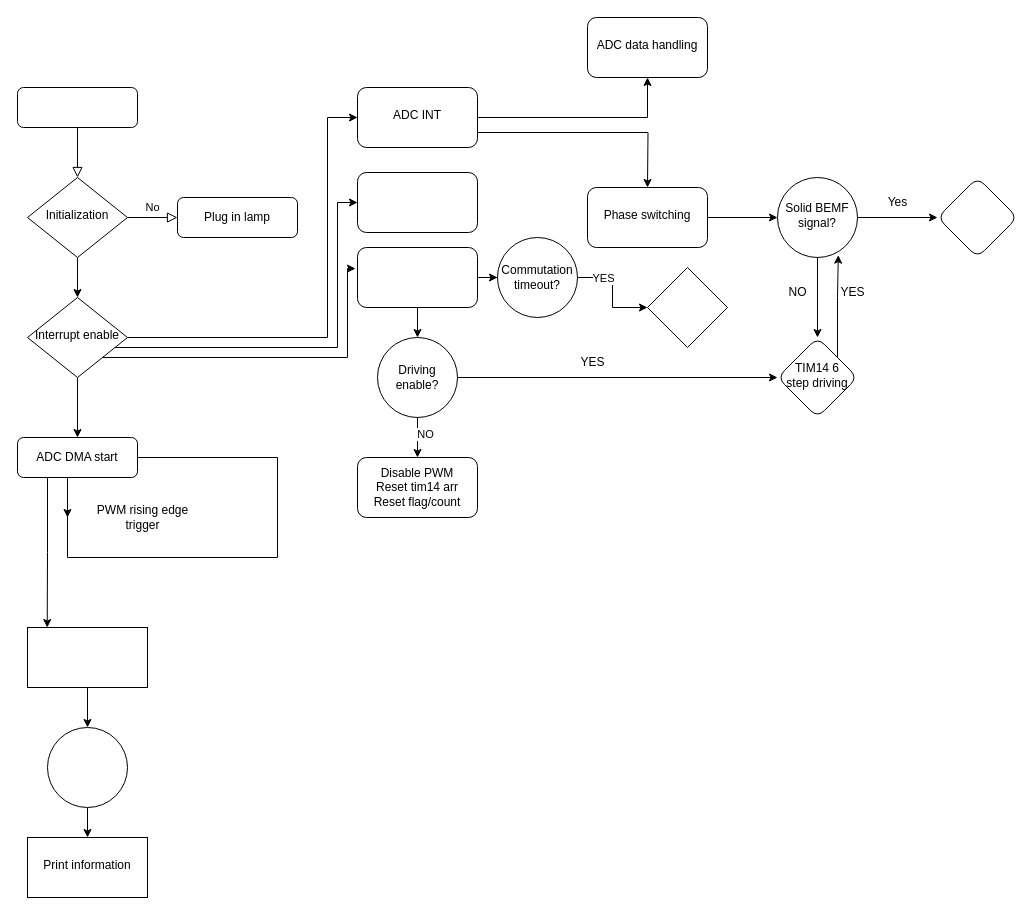
This 1035x915 diagram has some shape labels left out. The shapes that lost their labels are listed below. From the top down, each one's centre as x and y in pixels, then its label:
At point (77, 107): "Power ON".
At point (417, 202): "TIM6 INT LED indicator".
At point (977, 217): "BEMF driving".
At point (417, 277): "TIM14".
At point (687, 307): "Disable PWM".
At point (87, 657): "TIM1 BLDC PWM start".
At point (87, 767): "While(1)".
